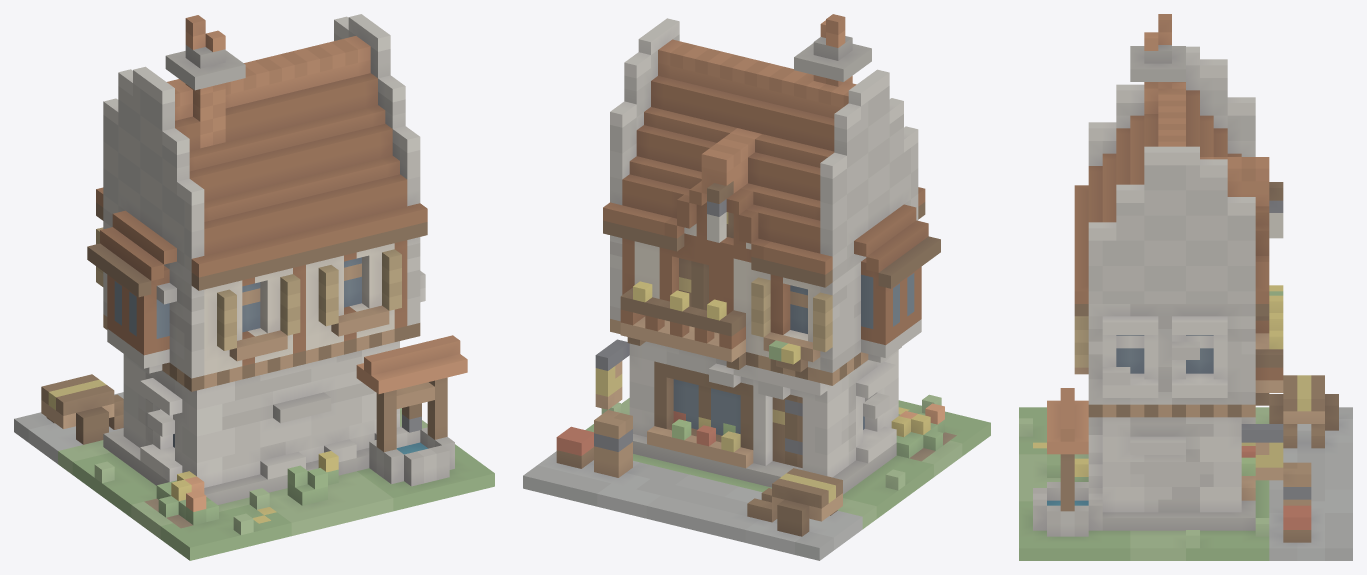
Rendered from house_merchants.v2.glb.
3 views of the same model, side by side, from view 1: azimuth 30°, elevation 25°; view 2: azimuth 150°, elevation 25°; view 3: azimuth 270°, elevation 25° (orthographic). The views are drawn at different scales.
Visible parts, largest first — view 1: house_merchants; view 2: house_merchants; view 3: house_merchants.
Part boxes in pixels (x1,y1,x2,y2): house_merchants: [14, 14, 494, 560]; house_merchants: [523, 14, 990, 560]; house_merchants: [1019, 14, 1352, 560].
Bounding box in the file's own units: 3 × 4.38 × 3.
